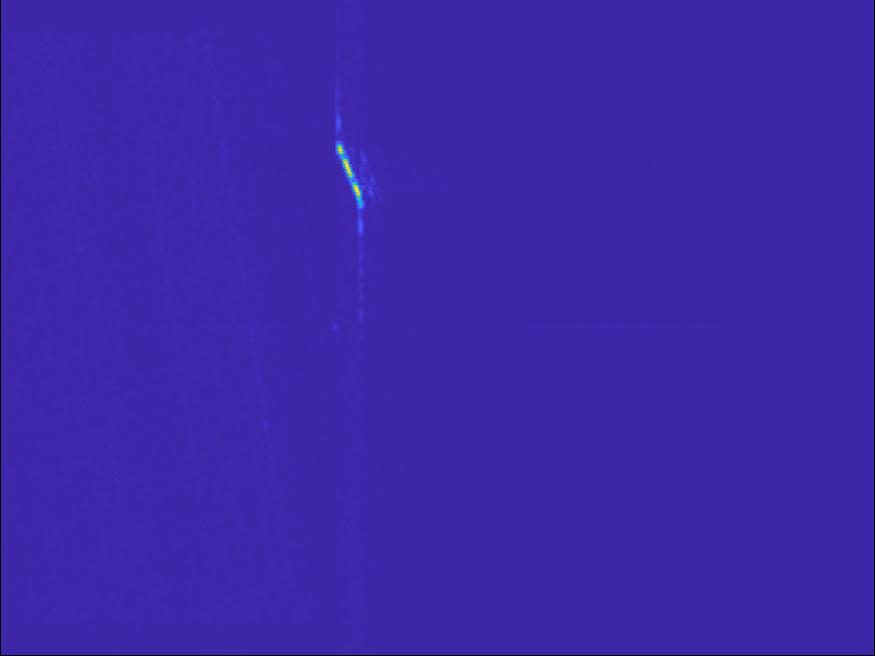Interference: (215, 91, 378, 323), (36, 298, 228, 374)
